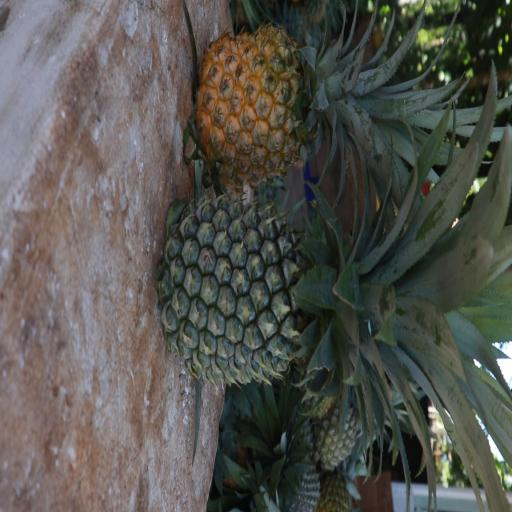Pineapple - v8 v1: (198, 28, 432, 174)
